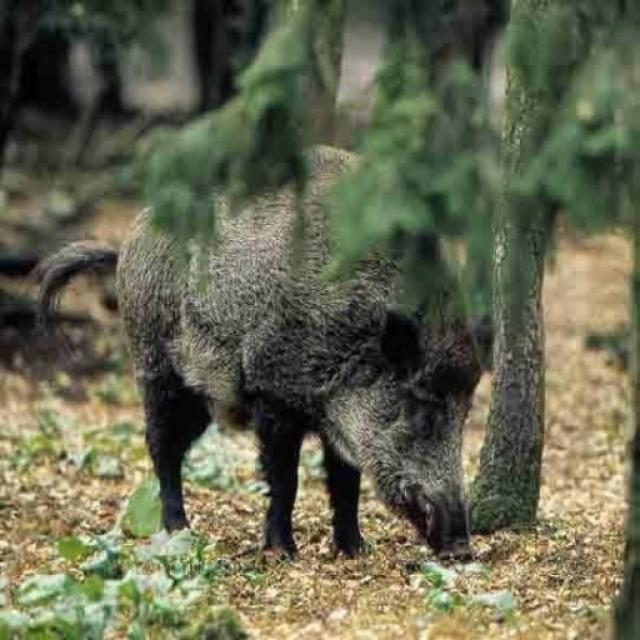pig: (122, 146, 485, 554)
